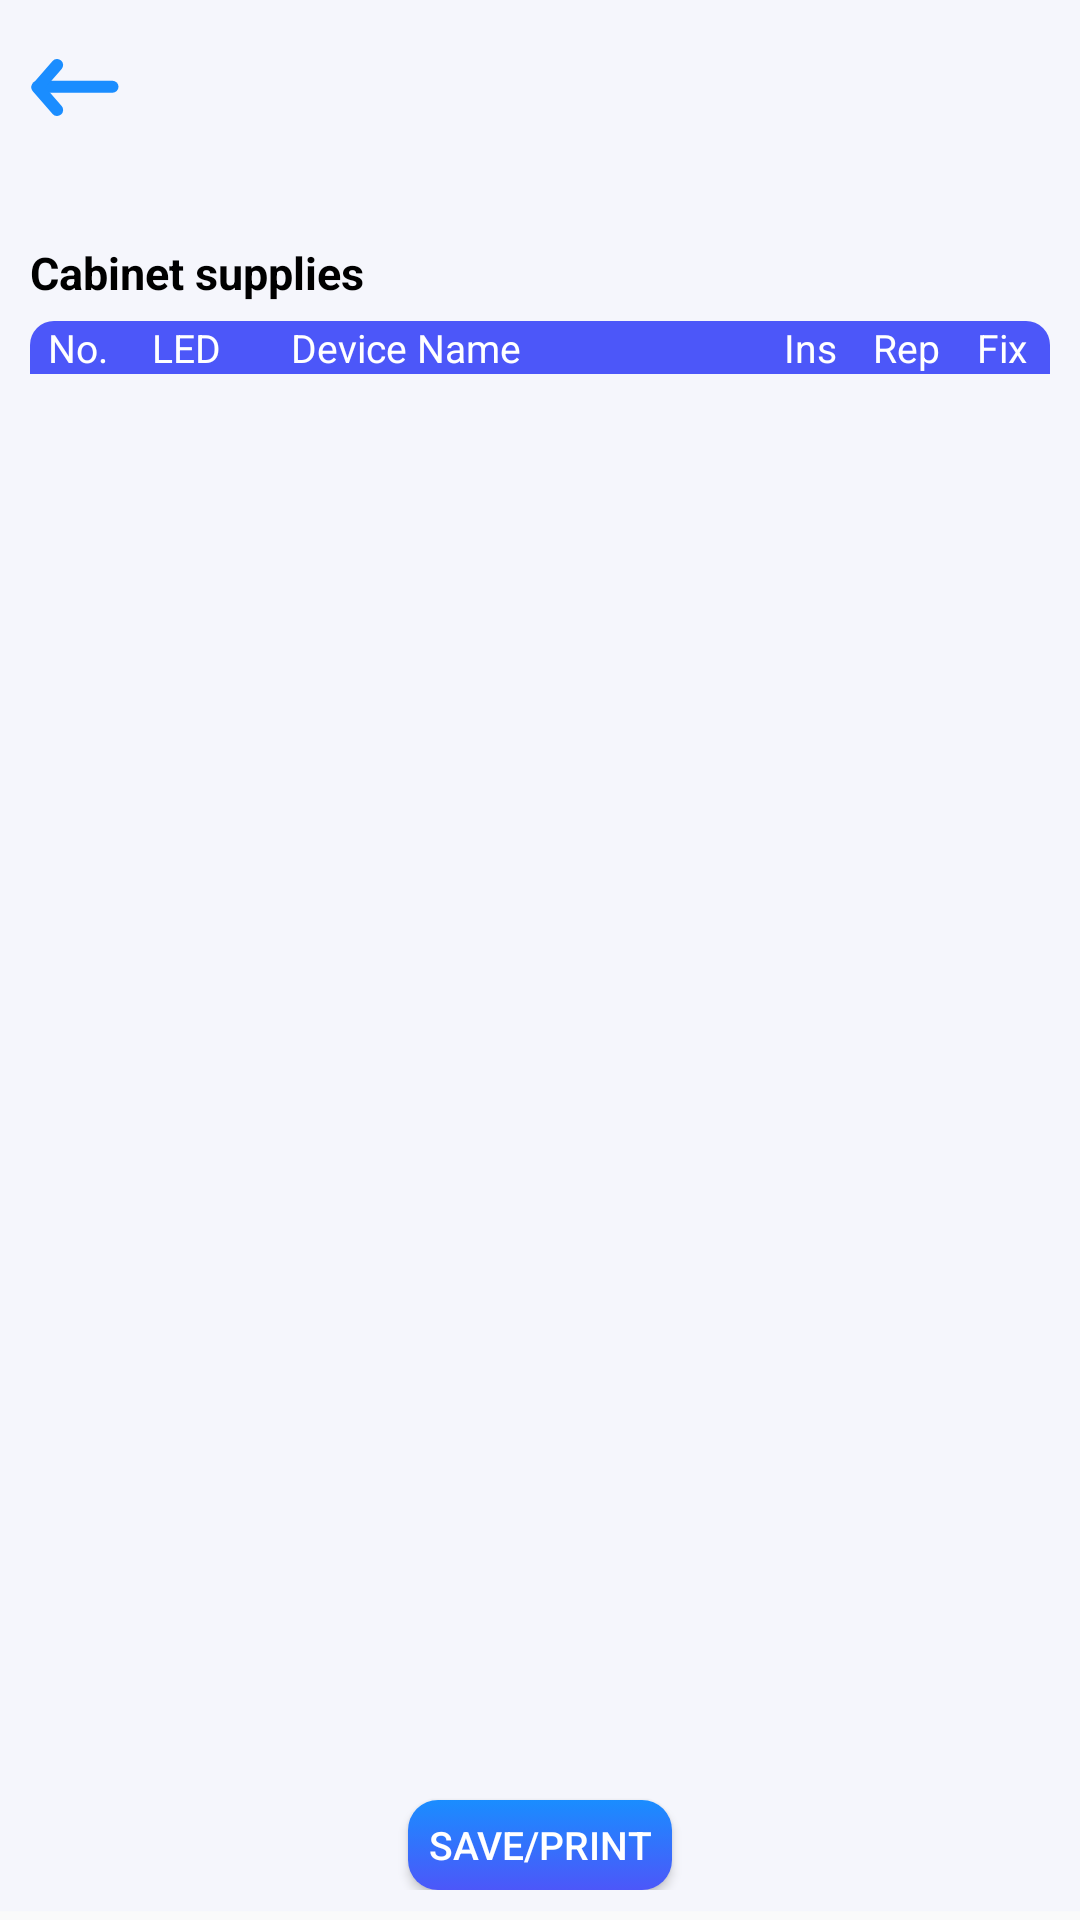

Point at icon controls on the screen. Image size 1080x1920, points as point (x, y).
back: point (75, 87)
